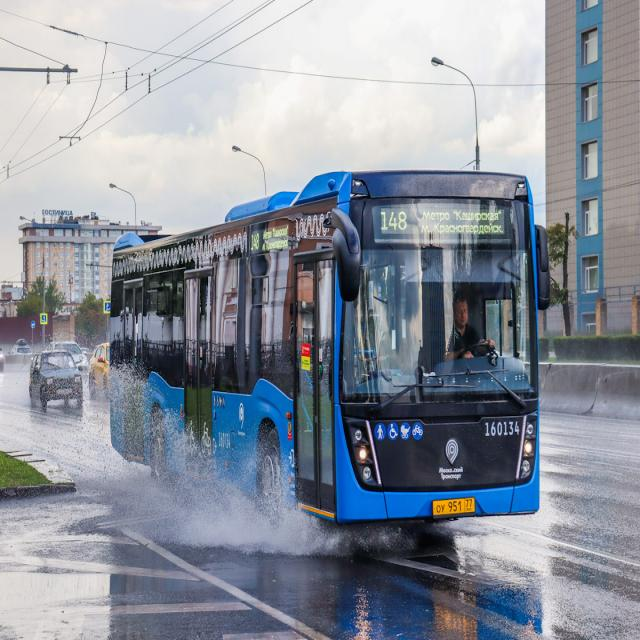number-of-bus: (381, 209, 410, 234)
